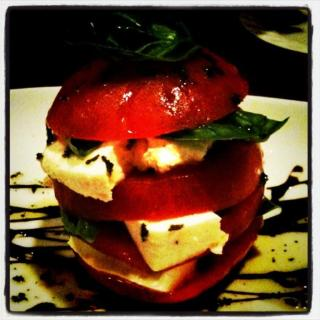tomato: (42, 42, 253, 142)
